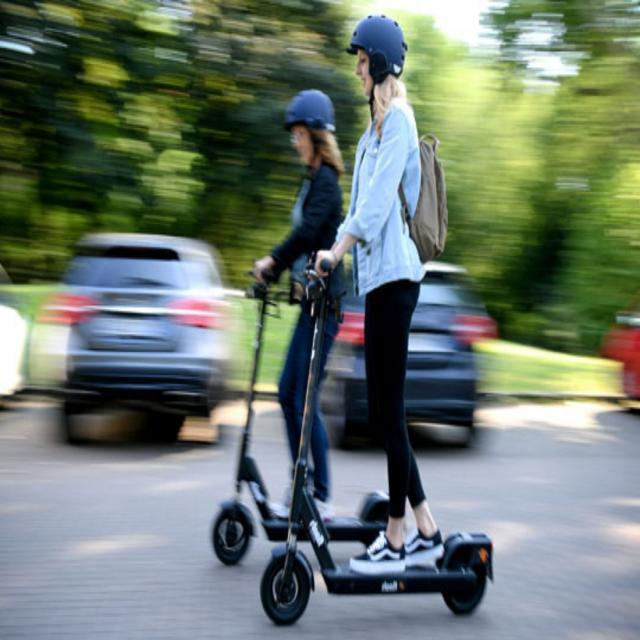Helmet: (329, 5, 415, 114)
